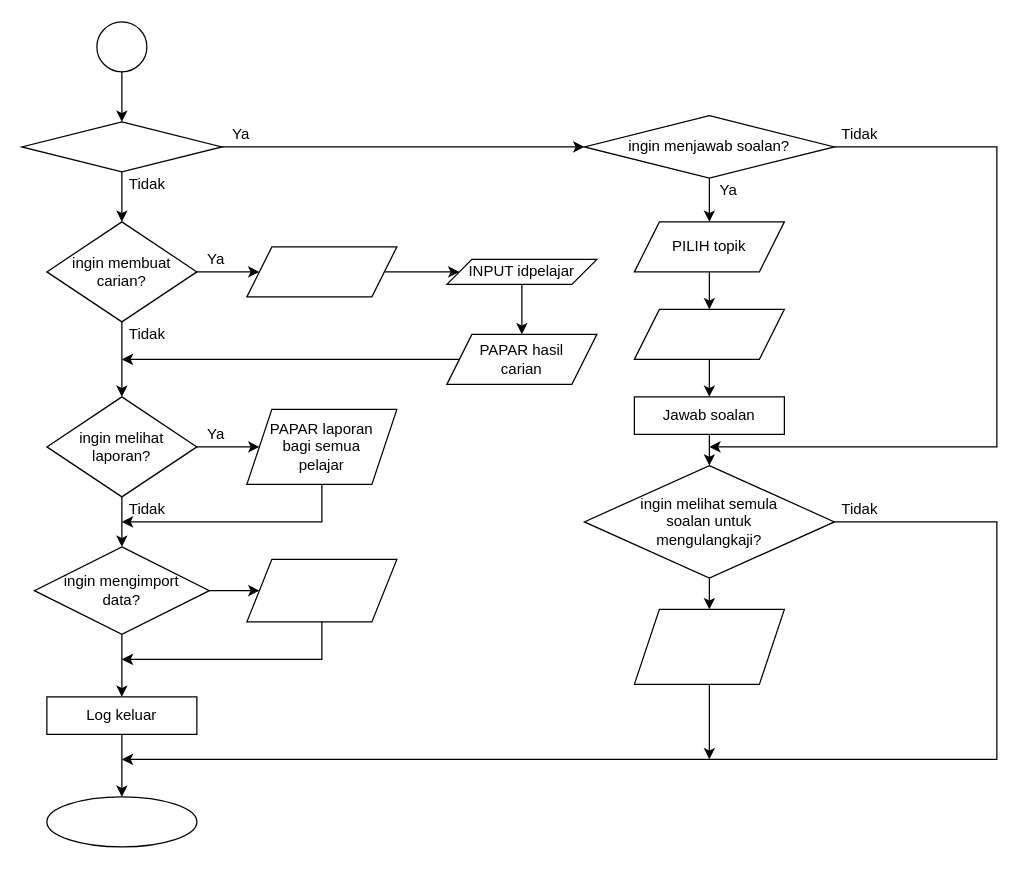
Some shapes in this 1029 by 869 pixel diagram are drawn without their labels. Each missing label, with the centre of its shape:
INPUT fail untuk diimport: the point at 321,590
PAPAR borang carian pelajar: the point at 321,271
PAPAR soalan: the point at 708,333
PAPAR soalan yang telah dijawab: the point at 708,646
session = pelajar: the point at 121,146
TAMAT: the point at 121,821
